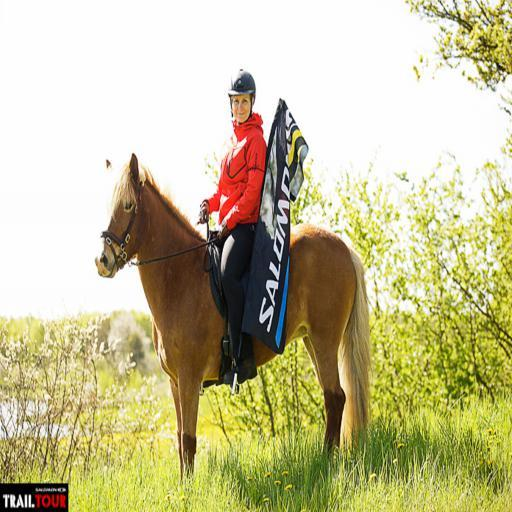Horse: (94, 153, 374, 488)
